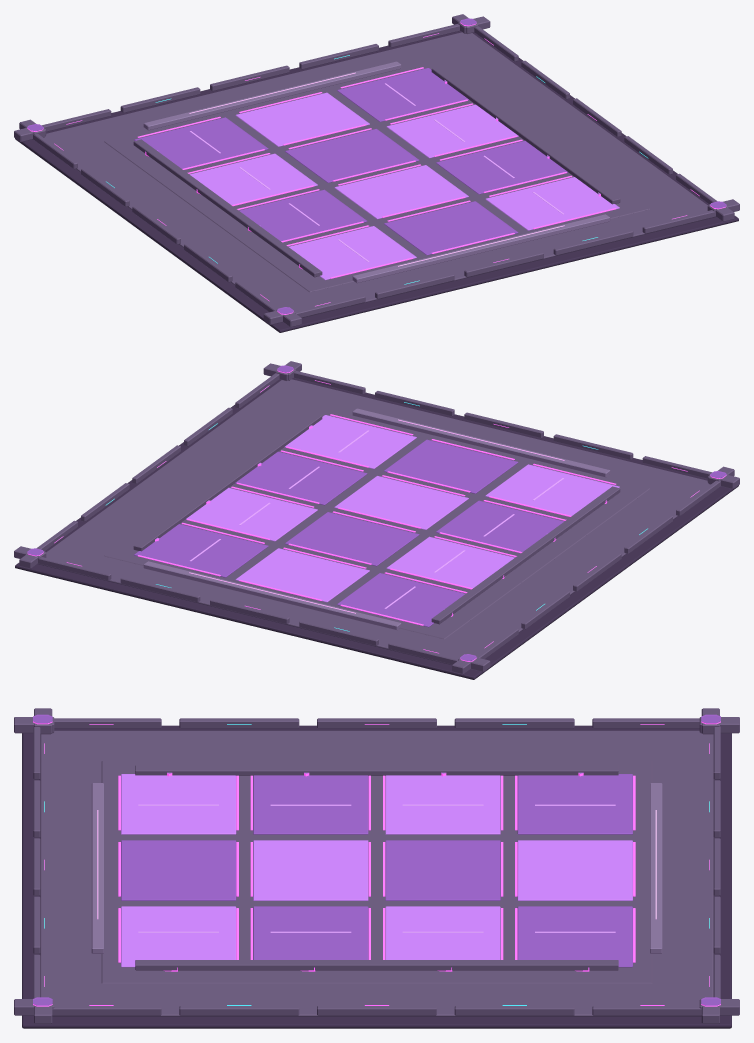
The model's file is sector_2_mirror_flats.glb.
3 views of the same model, one above another, from view 1: azimuth 30°, elevation 25°; view 2: azimuth 150°, elevation 25°; view 3: azimuth 270°, elevation 25° (orthographic). The views are drawn at different scales.
Visible parts, largest first — view 1: MirrorFlatsContinuousGraphiteFloorBed, MirrorFlatsBroadReflectiveUnderplate, MirrorFlatsDarkRiftUndertray, MirrorFlatsBroadReflectivePrismPlate10, MirrorFlatsBroadReflectivePrismPlate7, MirrorFlatsBroadReflectivePrismPlate1, MirrorFlatsBroadReflectivePrismPlate4, MirrorFlatsBroadReflectivePrismPlate2, MirrorFlatsBroadReflectivePrismPlate11, MirrorFlatsBroadReflectivePrismPlate8, MirrorFlatsBroadReflectivePrismPlate5, MirrorFlatsBroadReflectivePrismPlate0 (+17 smaller); view 2: MirrorFlatsContinuousGraphiteFloorBed, MirrorFlatsBroadReflectiveUnderplate, MirrorFlatsDarkRiftUndertray, MirrorFlatsBroadReflectivePrismPlate1, MirrorFlatsBroadReflectivePrismPlate4, MirrorFlatsBroadReflectivePrismPlate10, MirrorFlatsBroadReflectivePrismPlate7, MirrorFlatsBroadReflectivePrismPlate11, MirrorFlatsBroadReflectivePrismPlate2, MirrorFlatsBroadReflectivePrismPlate5, MirrorFlatsBroadReflectivePrismPlate8, MirrorFlatsBroadReflectivePrismPlate9 (+17 smaller); view 3: MirrorFlatsContinuousGraphiteFloorBed, MirrorFlatsBroadReflectiveUnderplate, MirrorFlatsDarkRiftUndertray, MirrorFlatsBroadReflectivePrismPlate4, MirrorFlatsBroadReflectivePrismPlate7, MirrorFlatsBroadReflectivePrismPlate1, MirrorFlatsBroadReflectivePrismPlate10, MirrorFlatsBroadReflectivePrismPlate0, MirrorFlatsBroadReflectivePrismPlate9, MirrorFlatsBroadReflectivePrismPlate3, MirrorFlatsBroadReflectivePrismPlate6, MirrorFlatsBroadReflectivePrismPlate11 (+17 smaller).
Boxes of the visible parts, box(x1,y1,x2,y2) form: MirrorFlatsContinuousGraphiteFloorBed: box(43, 32, 716, 317); MirrorFlatsBroadReflectiveUnderplate: box(104, 58, 649, 292); MirrorFlatsDarkRiftUndertray: box(15, 31, 738, 332); MirrorFlatsBroadReflectivePrismPlate10: box(235, 92, 369, 146); MirrorFlatsBroadReflectivePrismPlate7: box(285, 129, 419, 182); MirrorFlatsBroadReflectivePrismPlate1: box(384, 201, 518, 255); MirrorFlatsBroadReflectivePrismPlate4: box(334, 165, 468, 219); MirrorFlatsBroadReflectivePrismPlate2: box(485, 177, 619, 230); MirrorFlatsBroadReflectivePrismPlate11: box(337, 68, 469, 121); MirrorFlatsBroadReflectivePrismPlate8: box(386, 104, 518, 158); MirrorFlatsBroadReflectivePrismPlate5: box(436, 140, 567, 194); MirrorFlatsBroadReflectivePrismPlate0: box(288, 226, 416, 280); MirrorFlatsContinuousGraphiteFloorBed: box(37, 379, 710, 664); MirrorFlatsBroadReflectiveUnderplate: box(104, 405, 649, 639); MirrorFlatsDarkRiftUndertray: box(15, 378, 738, 679); MirrorFlatsBroadReflectivePrismPlate1: box(384, 439, 518, 493); MirrorFlatsBroadReflectivePrismPlate4: box(334, 476, 468, 529); MirrorFlatsBroadReflectivePrismPlate10: box(235, 548, 369, 602); MirrorFlatsBroadReflectivePrismPlate7: box(285, 512, 419, 566); MirrorFlatsBroadReflectivePrismPlate11: box(134, 524, 268, 577); MirrorFlatsBroadReflectivePrismPlate2: box(284, 415, 416, 468); MirrorFlatsBroadReflectivePrismPlate5: box(235, 451, 367, 505); MirrorFlatsBroadReflectivePrismPlate8: box(186, 487, 317, 541); MirrorFlatsBroadReflectivePrismPlate9: box(337, 573, 465, 627); MirrorFlatsContinuousGraphiteFloorBed: box(40, 730, 713, 1016); MirrorFlatsBroadReflectiveUnderplate: box(101, 761, 652, 983); MirrorFlatsDarkRiftUndertray: box(22, 725, 731, 1028); MirrorFlatsBroadReflectivePrismPlate4: box(253, 840, 368, 900); MirrorFlatsBroadReflectivePrismPlate7: box(385, 840, 500, 900); MirrorFlatsBroadReflectivePrismPlate1: box(121, 840, 236, 900); MirrorFlatsBroadReflectivePrismPlate10: box(517, 840, 632, 900); MirrorFlatsBroadReflectivePrismPlate0: box(121, 774, 236, 834); MirrorFlatsBroadReflectivePrismPlate9: box(517, 774, 632, 834); MirrorFlatsBroadReflectivePrismPlate3: box(253, 775, 368, 834); MirrorFlatsBroadReflectivePrismPlate6: box(385, 775, 500, 834); MirrorFlatsBroadReflectivePrismPlate11: box(517, 906, 632, 967).
Size of the model in its own units: 59.3 by 1.71 by 59.3.
